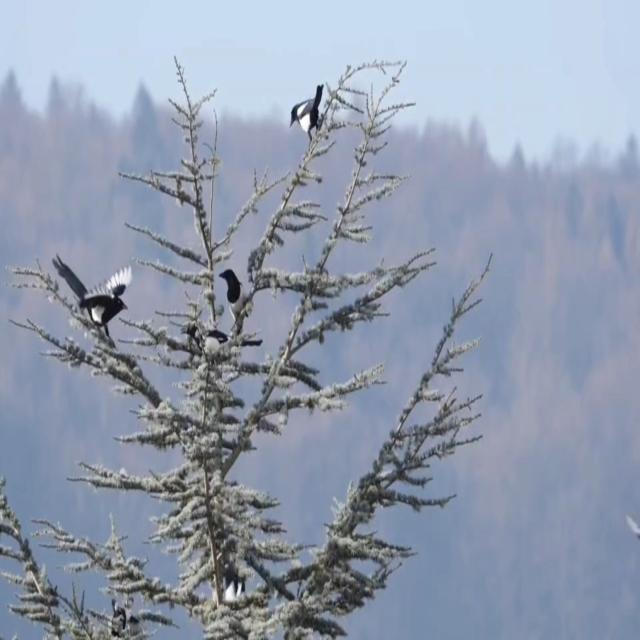bird: (48, 234, 138, 357), (277, 67, 334, 166), (99, 591, 183, 640), (214, 543, 253, 628), (217, 261, 258, 338)
